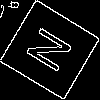N: (24, 25, 82, 80)
